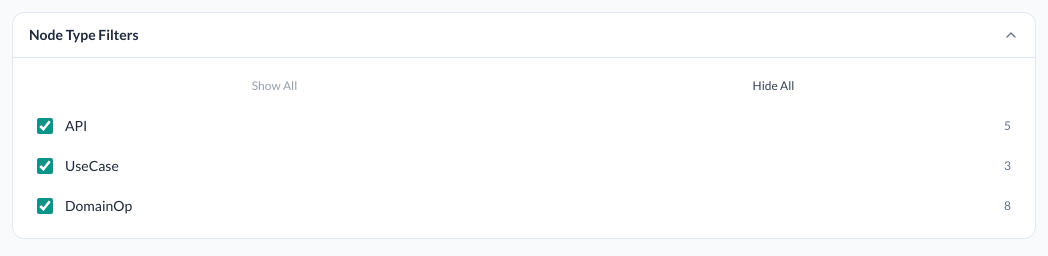
Test: NodeTypeFilters › toggles filter list visibility when header clicked
Expected: the button with test id "node-type-filters-show-all" is shown, [29, 74, 520, 98]
What coordinates should you click on to do the following:
click the button with test id "node-type-filters-toggle"
I would click on:
 (84, 34)
Its box is [13, 13, 1035, 57].
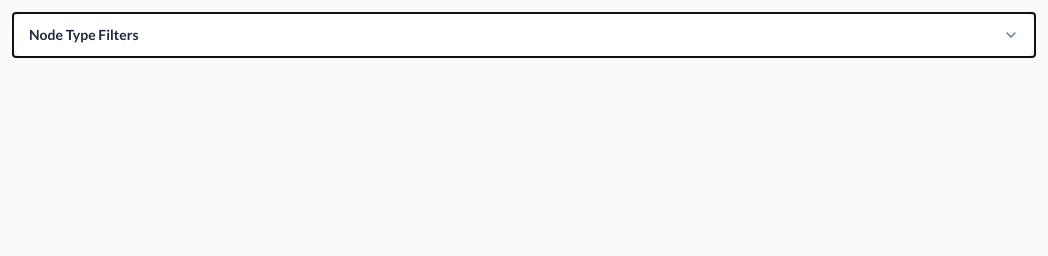
Now the button with test id "node-type-filters-show-all" is gone
